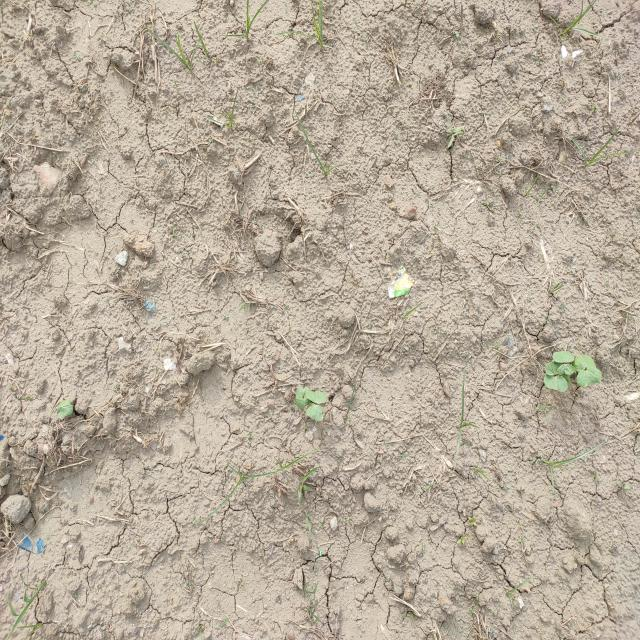seedling: (577, 368, 602, 387), (544, 375, 568, 393), (572, 355, 596, 372), (306, 403, 324, 422), (305, 391, 327, 404), (553, 351, 574, 363), (57, 404, 74, 418), (545, 362, 563, 375), (558, 364, 575, 375), (296, 387, 304, 410), (304, 387, 311, 406), (58, 399, 71, 408)
